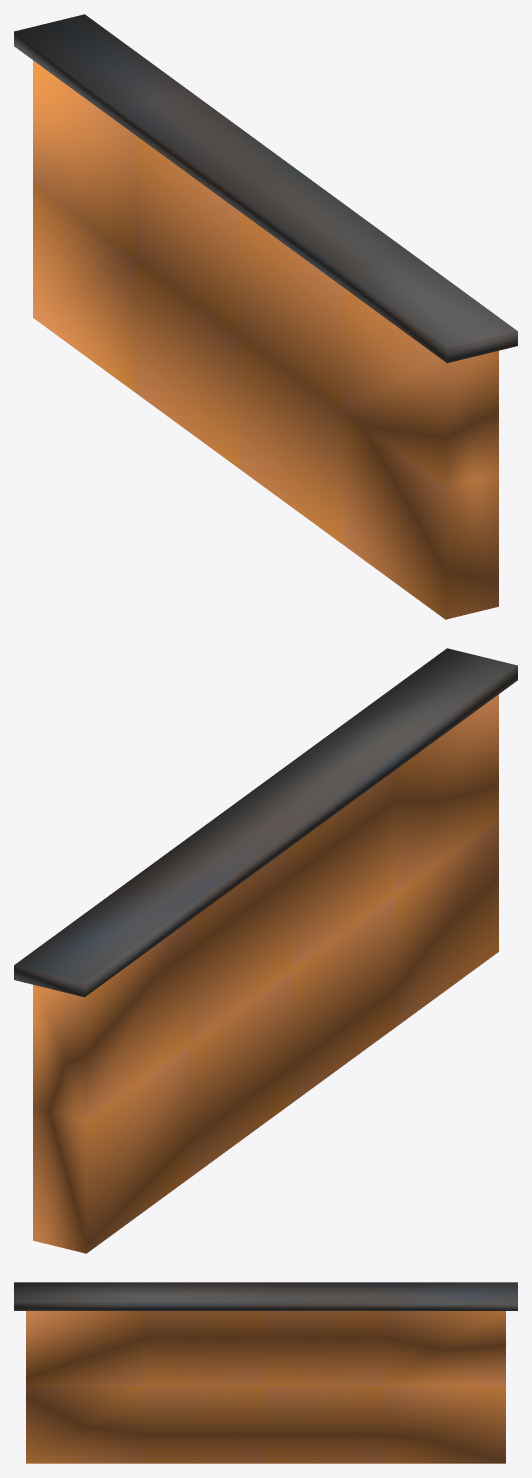
File: Muro.fbx
The picture shows the model from 3 angles, top to bottom: view 1: azimuth 30°, elevation 25°; view 2: azimuth 150°, elevation 25°; view 3: azimuth 270°, elevation 25°; orthographic projection. The views are drawn at different scales.
Visible parts, largest first — view 1: Muro; view 2: Muro; view 3: Muro.
Part boxes in pixels (box(x1,y1,x2,y2)): Muro: box(14, 14, 517, 619); Muro: box(14, 648, 517, 1253); Muro: box(14, 1282, 517, 1463).
Bounding box in the file's own units: 79.3 × 300 × 840.
1 material, 1 textured.
